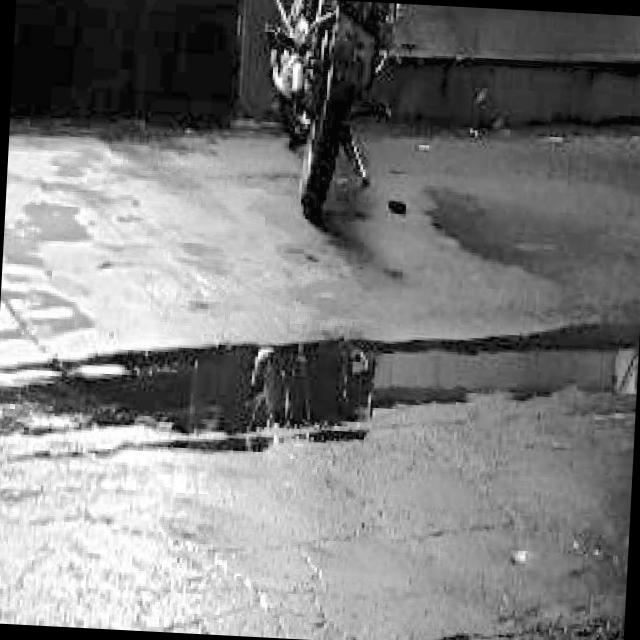Pothole: (0, 274, 640, 483)
